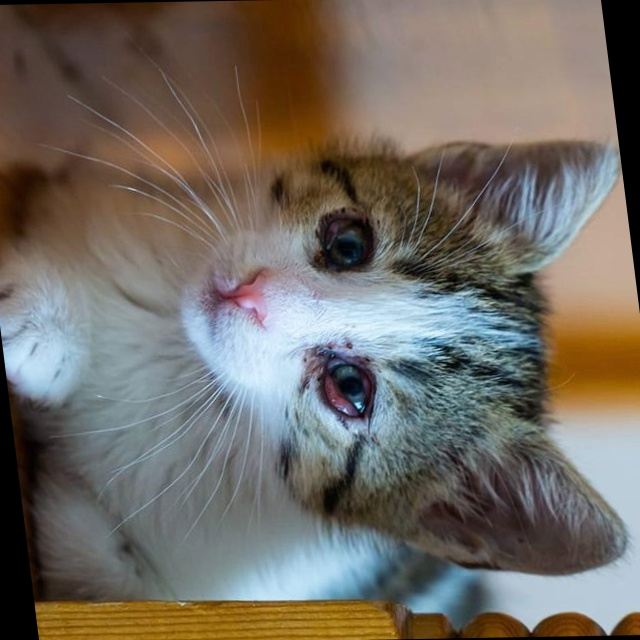eye_infection: (312, 345, 383, 427), (317, 218, 386, 272)
